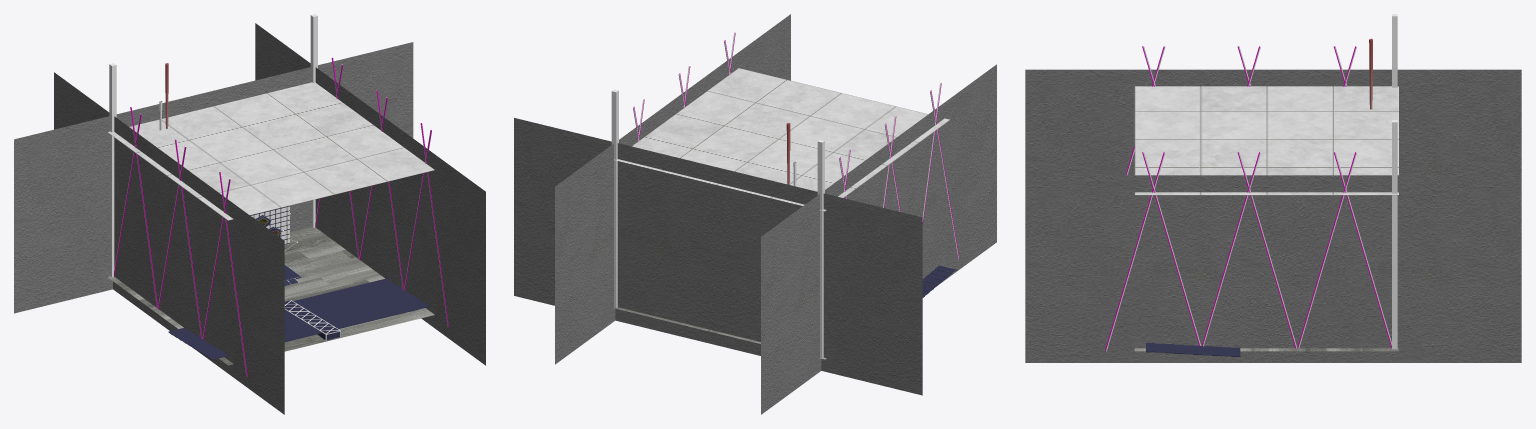
The model's file is Import-Test.fbx.
3 renders of one model, left to right at view 1: azimuth 30°, elevation 25°; view 2: azimuth 150°, elevation 25°; view 3: azimuth 270°, elevation 25°, orthographic. The views are drawn at different scales.
Visible parts, largest first — view 1: Box011, Plane003, Plane001, Box008, Box010, Back; view 2: Box011, Plane003, Box008; view 3: Box011, Plane003, Box008, Plane001.
Boxes of the visible parts, box(x1,y1,x2,y2) form: Box011: box(14, 14, 485, 414); Plane003: box(107, 82, 434, 220); Plane001: box(107, 227, 434, 365); Box008: box(168, 278, 429, 359); Box010: box(284, 300, 340, 340); Back: box(250, 205, 289, 244); Box011: box(514, 14, 996, 414); Plane003: box(614, 68, 950, 211); Box008: box(922, 265, 955, 297); Box011: box(1025, 14, 1521, 362); Plane003: box(1134, 86, 1398, 195); Box008: box(1146, 343, 1240, 356); Plane001: box(1134, 348, 1398, 351).
Bounding box in the file's own units: 263 × 141 × 263.
6 materials, 6 textured.
